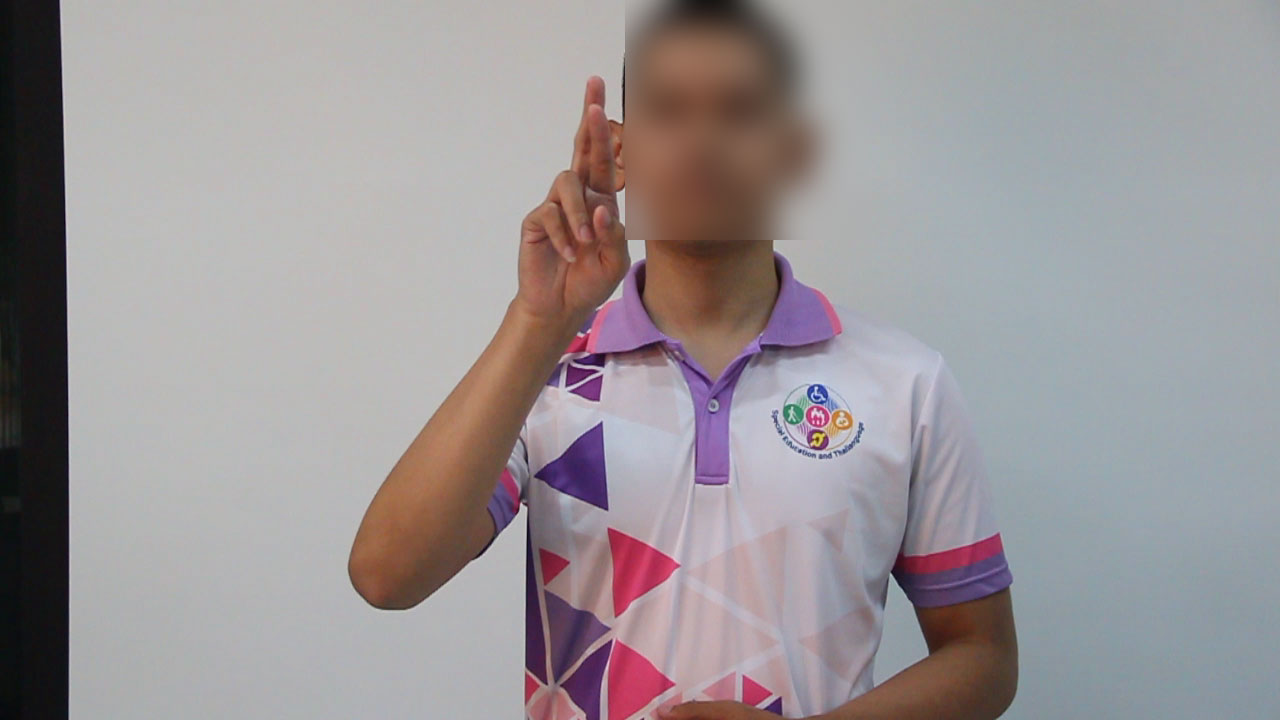rao: (475, 69, 635, 323)
